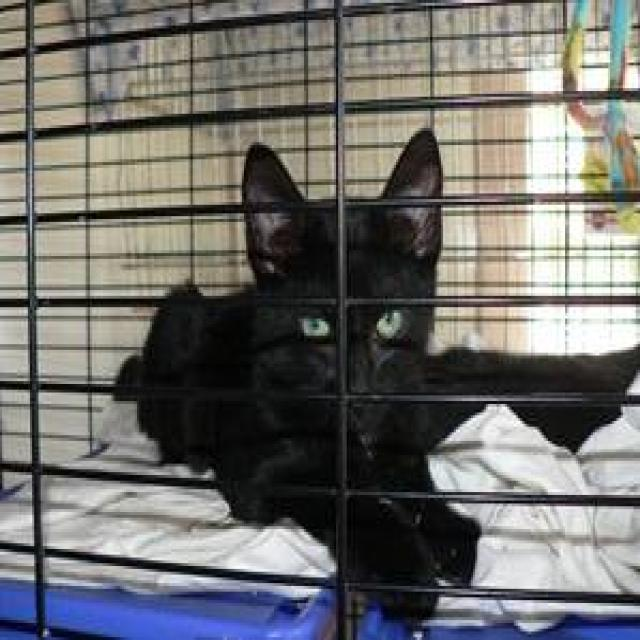Cat: (238, 125, 455, 455)
